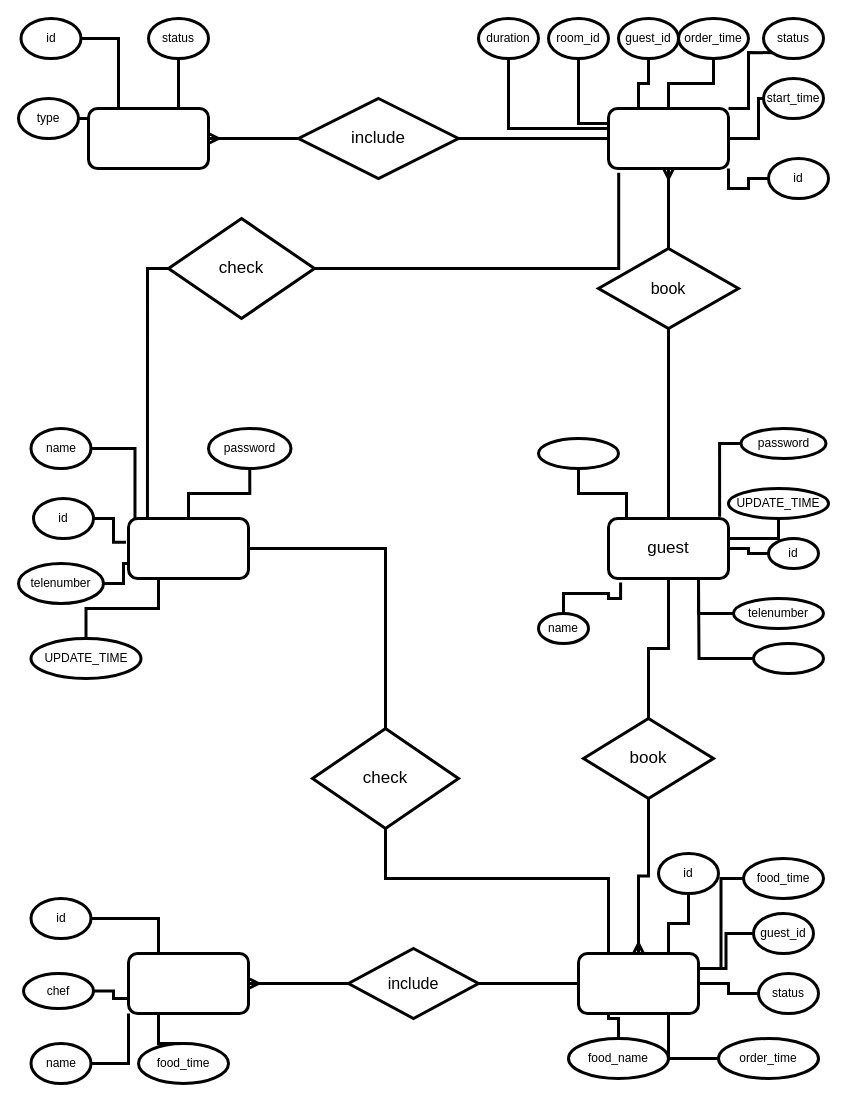
Image size: 847x1102. Some labels were removed from this diagram. The centre of each missing label's shape, as x and y in pixels:
book_food: point 638,983
book_room: point 668,138
food: point 188,983
passportId: point 578,453
real_name: point 788,658
room: point 148,138
stuff: point 188,548
